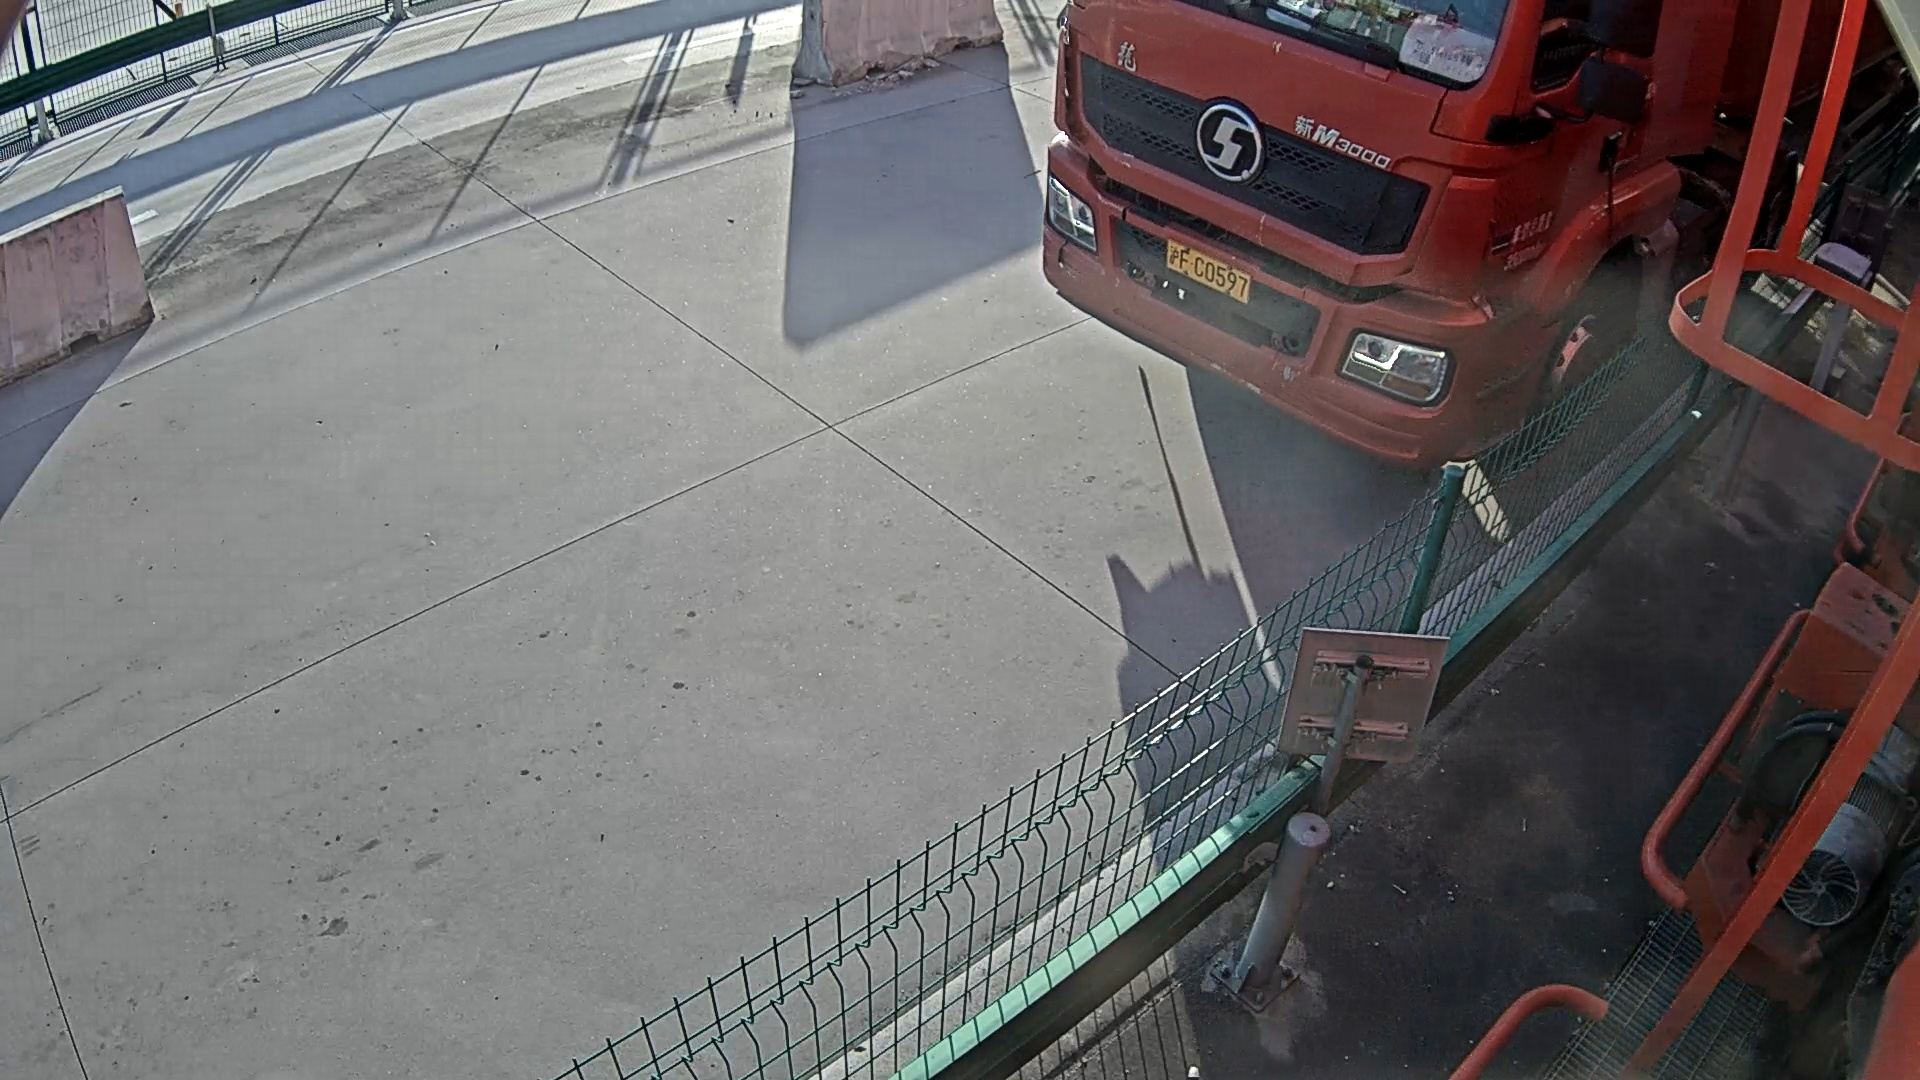head: (1038, 2, 1679, 480)
plate: (1156, 225, 1271, 309)
